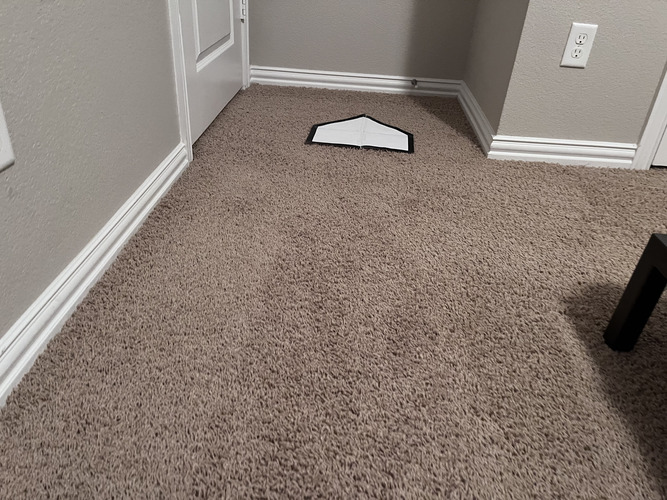homeplate: (305, 113, 413, 154)
